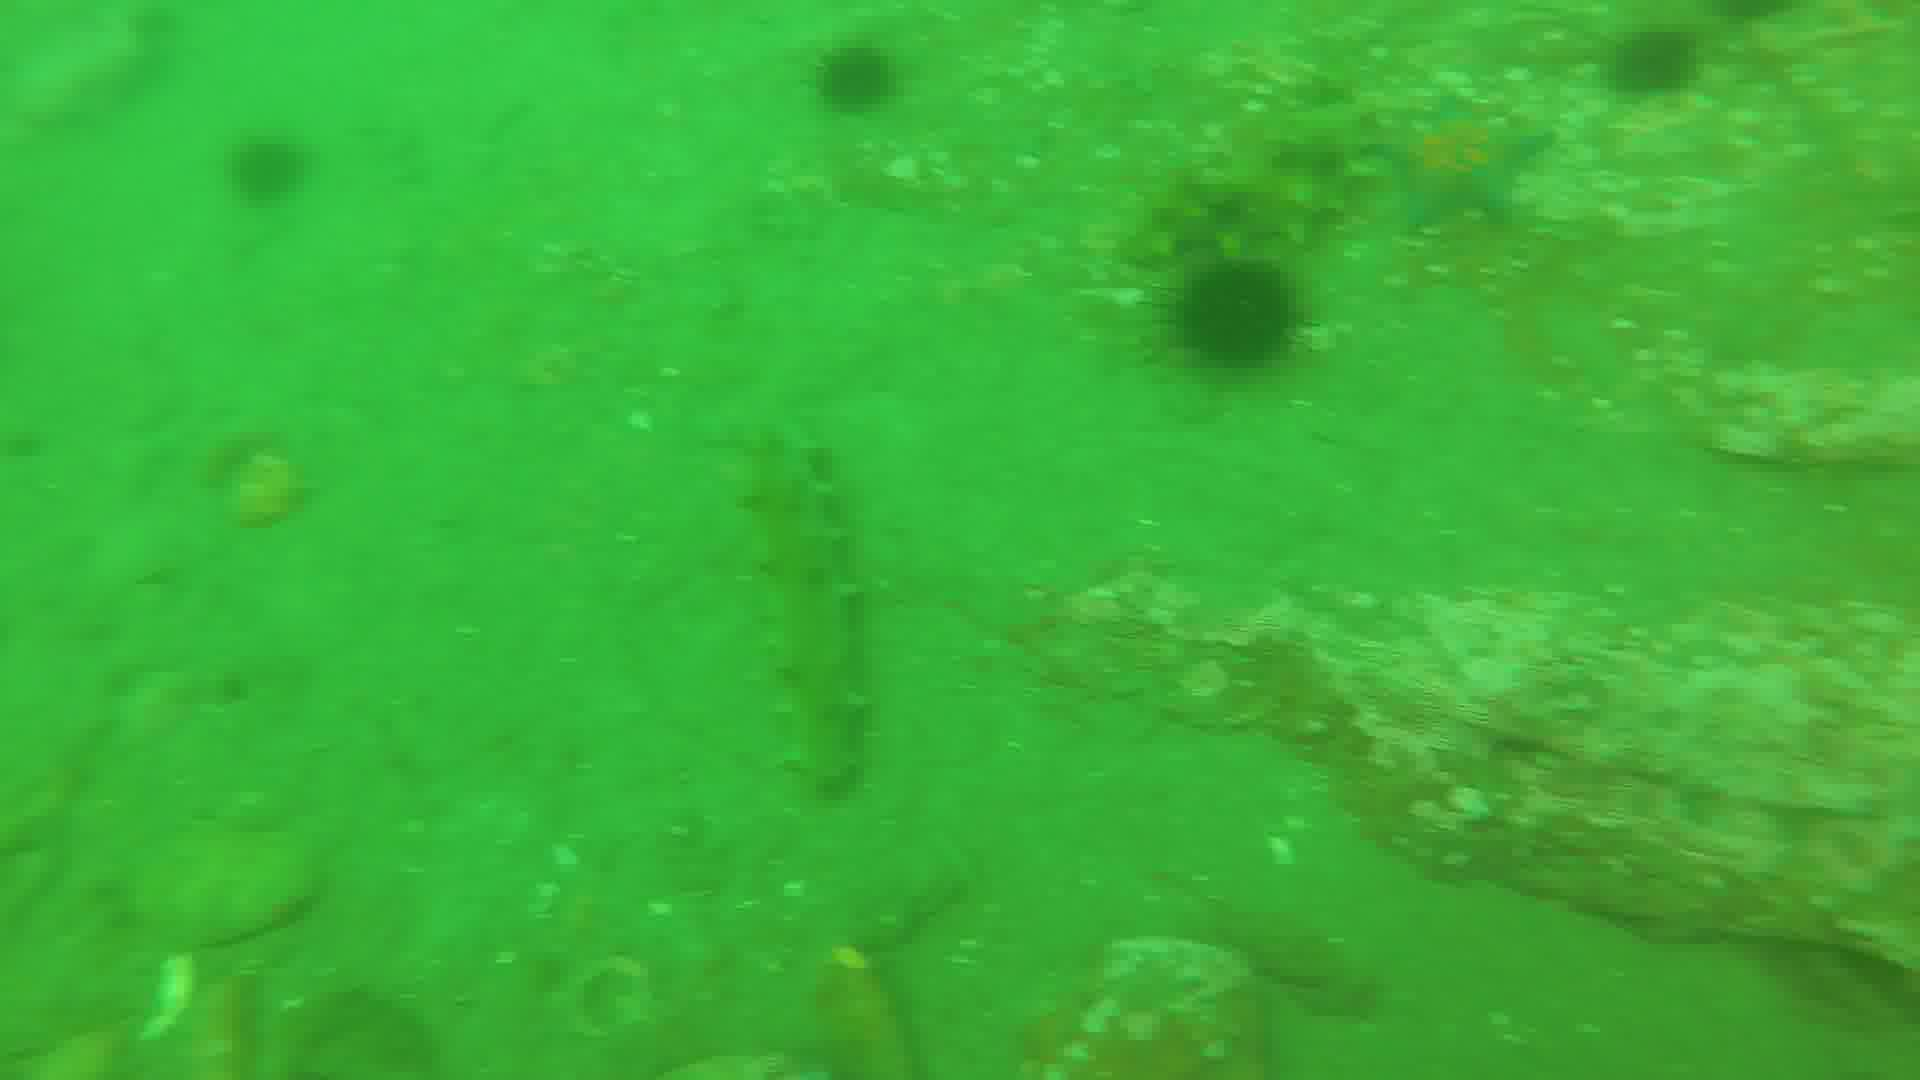echinus: (1174, 255, 1311, 388), (1607, 32, 1702, 109), (227, 132, 316, 207), (808, 40, 891, 111)
holothurian: (742, 427, 870, 794), (1135, 98, 1383, 258)
scallop: (567, 955, 661, 1047)
starfish: (1393, 104, 1565, 233)
